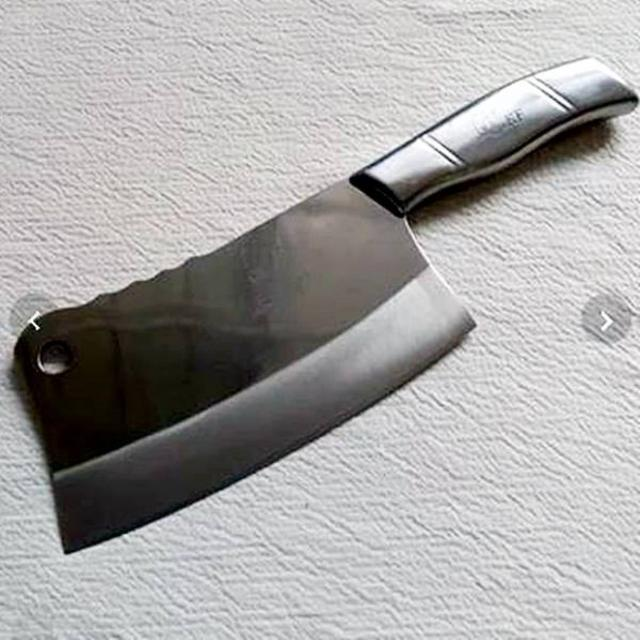Pisau: (0, 44, 636, 569)
